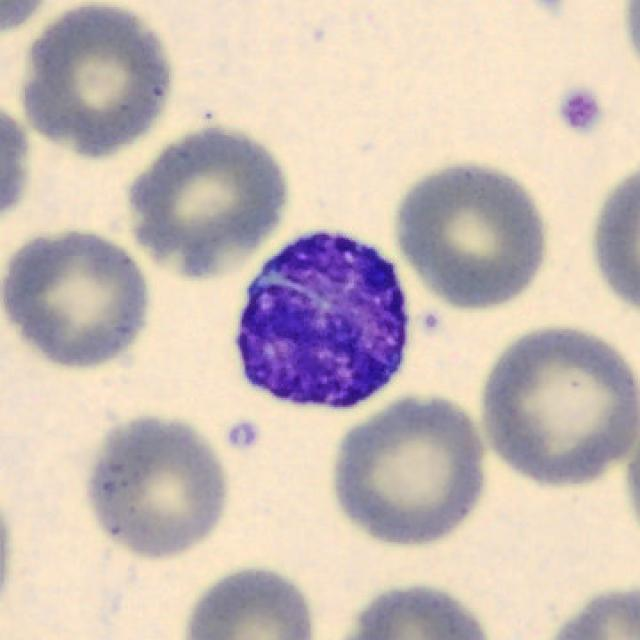Linfocito: (235, 231, 409, 409)
